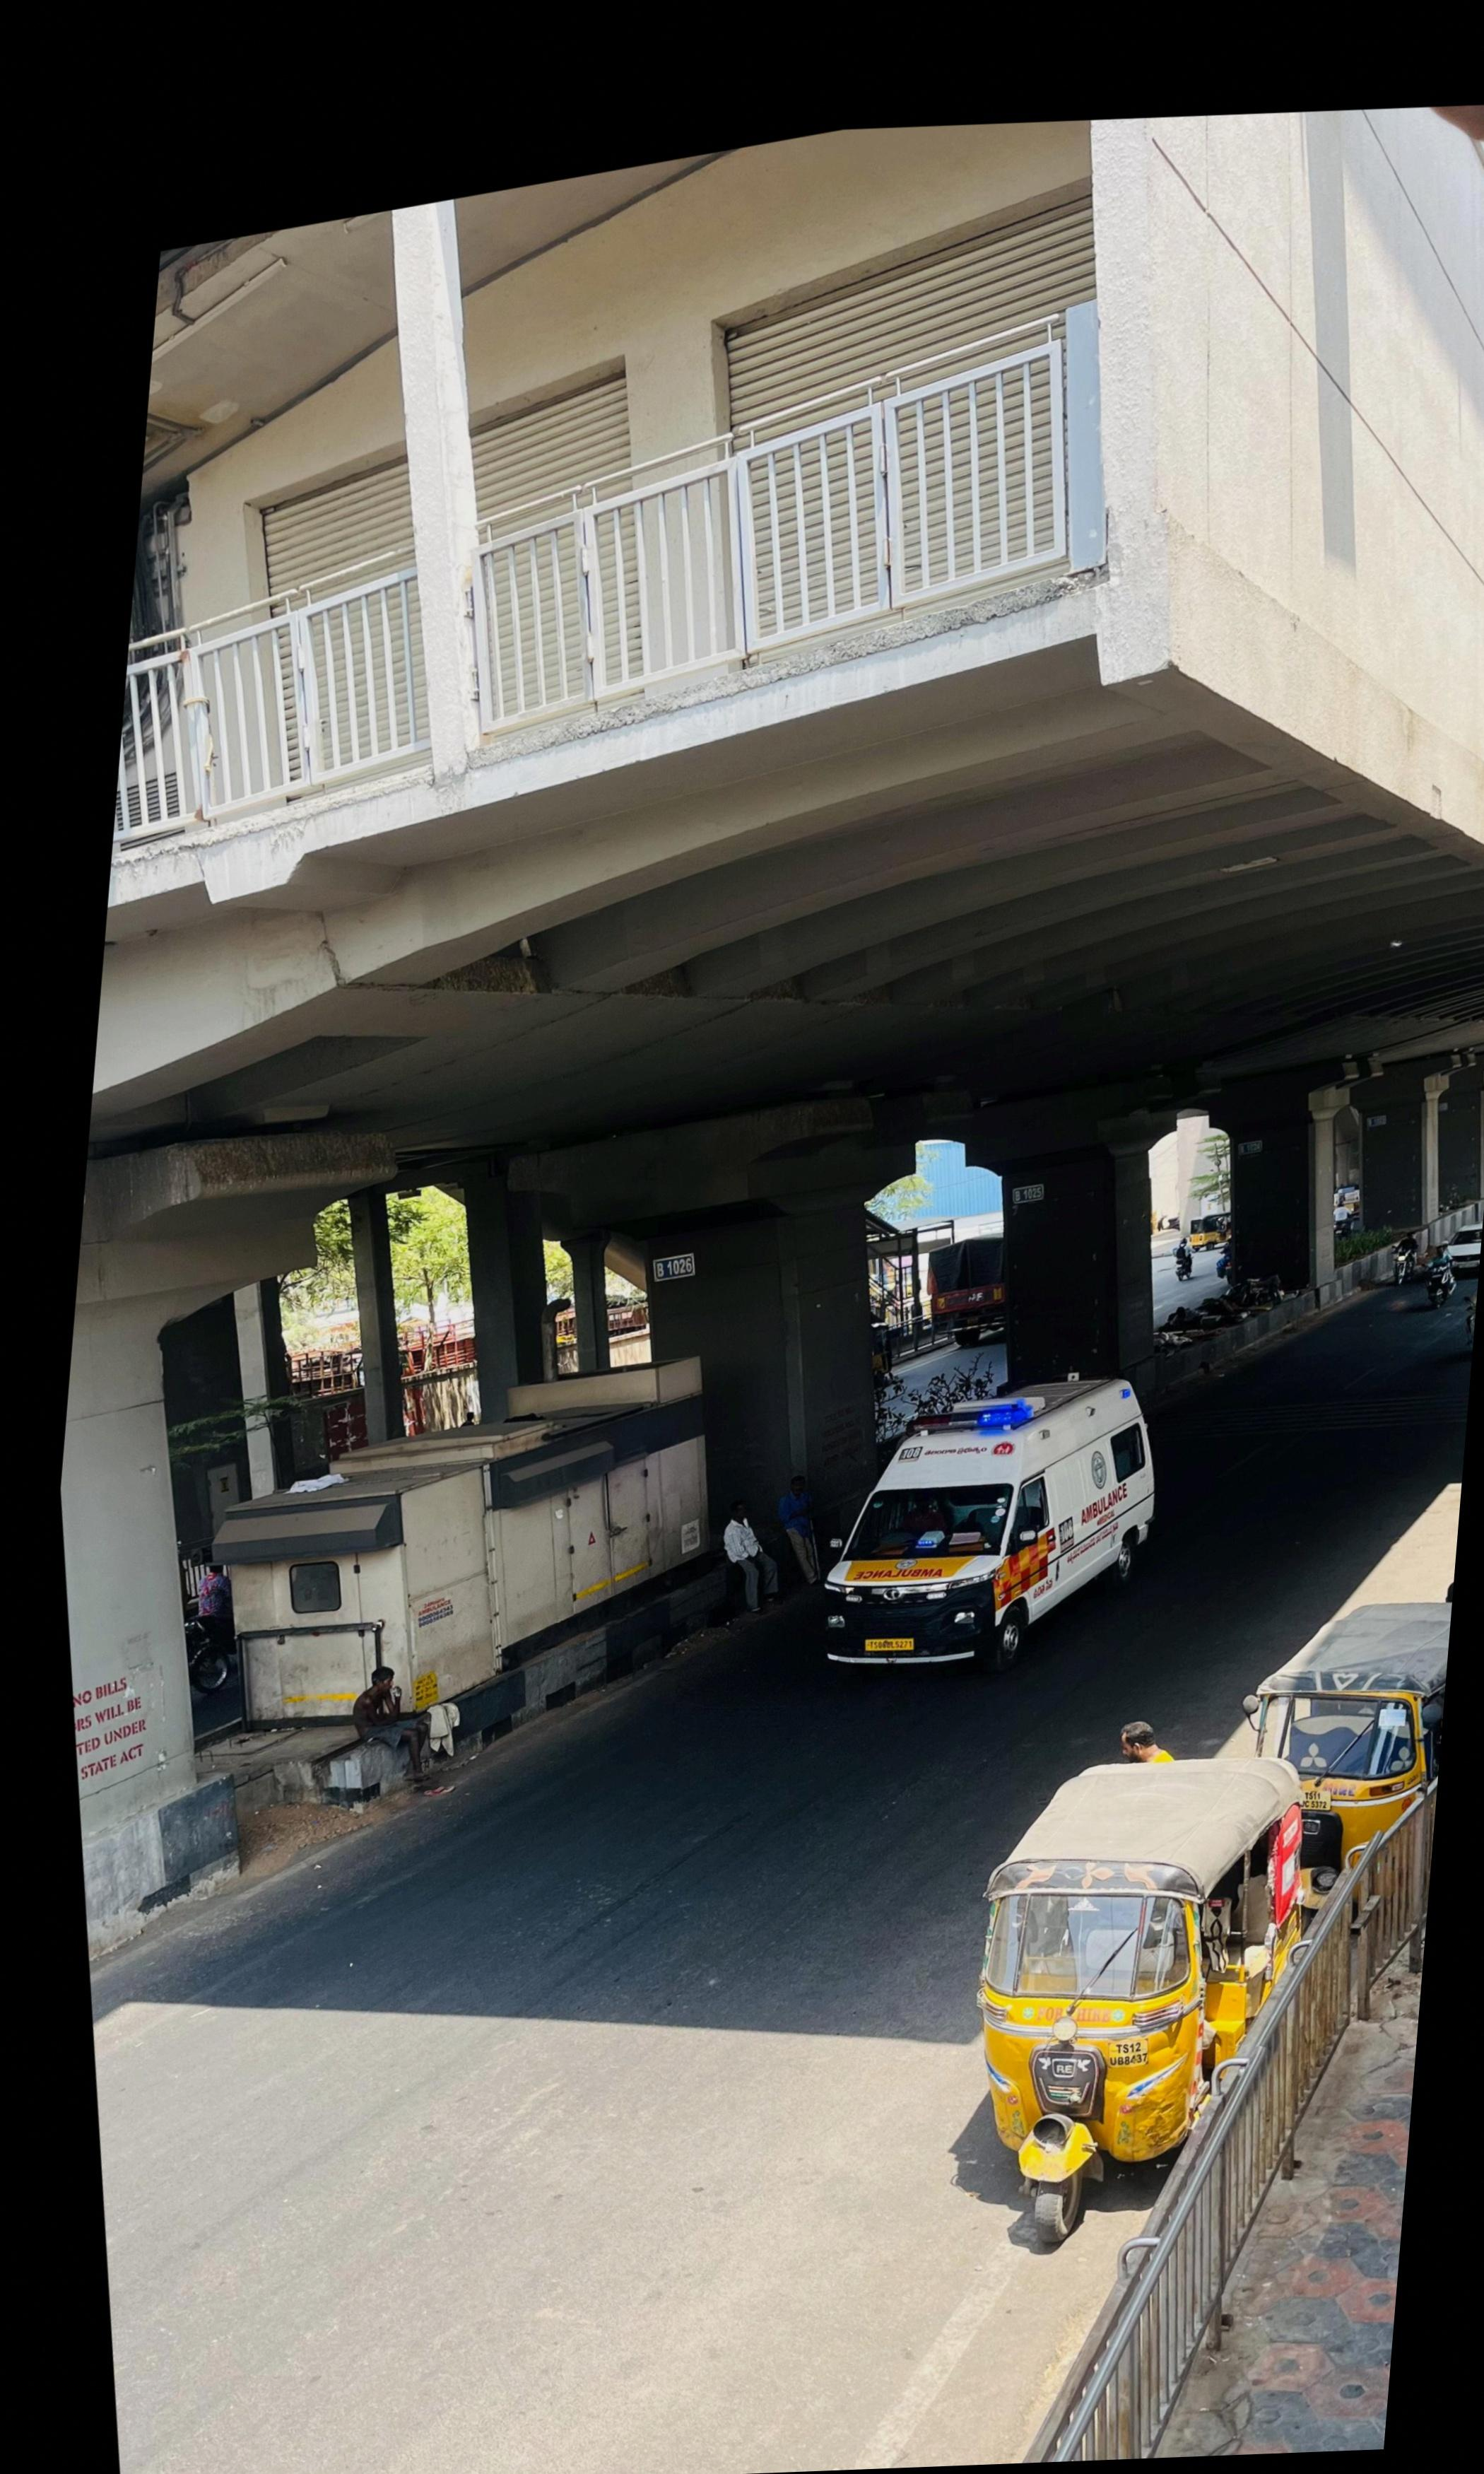ambulance: (813, 1357, 1161, 1681)
